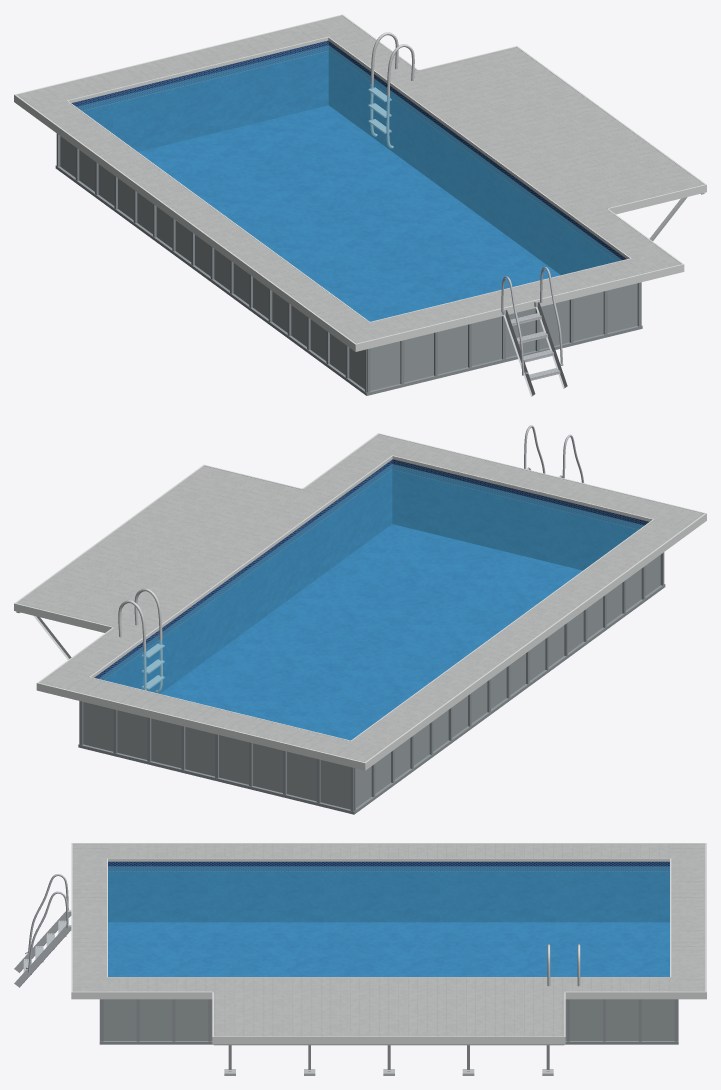
Rendered from kayak-pool-16x32-gray-t-ag-nofence.5e50a86f17.glb.
3 renders of one model, top to bottom at view 1: azimuth 30°, elevation 25°; view 2: azimuth 150°, elevation 25°; view 3: azimuth 270°, elevation 25°, orthographic. The views are drawn at different scales.
Visible parts, largest first — view 1: water, deck, liner_floor, liner_wall, wall, fascia, upright, ladder, steel; view 2: water, deck, liner_floor, liner_wall, wall, fascia, upright, steel; view 3: water, deck, liner_wall, liner_floor, fascia, wall, upright, ladder, stud.
Part boxes in pixels (<box>): water: <box>77,45,621,321</box>; deck: <box>17,15,703,343</box>; liner_floor: <box>138,105,560,321</box>; liner_wall: <box>71,40,626,274</box>; wall: <box>60,136,637,390</box>; fascia: <box>14,14,706,351</box>; upright: <box>55,133,642,395</box>; ladder: <box>501,267,567,396</box>; steel: <box>368,32,414,148</box>; water: <box>99,464,644,740</box>; deck: <box>17,434,703,762</box>; liner_floor: <box>160,524,582,740</box>; liner_wall: <box>94,459,649,693</box>; wall: <box>83,555,660,809</box>; fascia: <box>14,433,706,770</box>; upright: <box>78,552,665,814</box>; steel: <box>118,588,164,692</box>; water: <box>108,866,669,976</box>; deck: <box>72,844,705,1036</box>; liner_wall: <box>108,861,669,922</box>; liner_floor: <box>108,922,669,976</box>; fascia: <box>71,843,706,1043</box>; wall: <box>103,999,674,1040</box>; upright: <box>99,999,678,1044</box>; ladder: <box>14,874,71,987</box>; stud: <box>214,1044,564,1075</box>.
Bounding box in the file's own units: 7.93 × 1.9 × 11.96.
10 materials, 3 textured.
